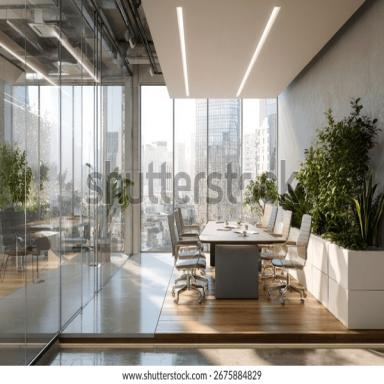glass_panel: (142, 88, 172, 249), (173, 100, 207, 242), (243, 98, 277, 226), (12, 86, 37, 260), (33, 88, 58, 260), (208, 100, 241, 228), (104, 86, 127, 253), (79, 87, 96, 297), (60, 2, 94, 79), (65, 86, 79, 253)
